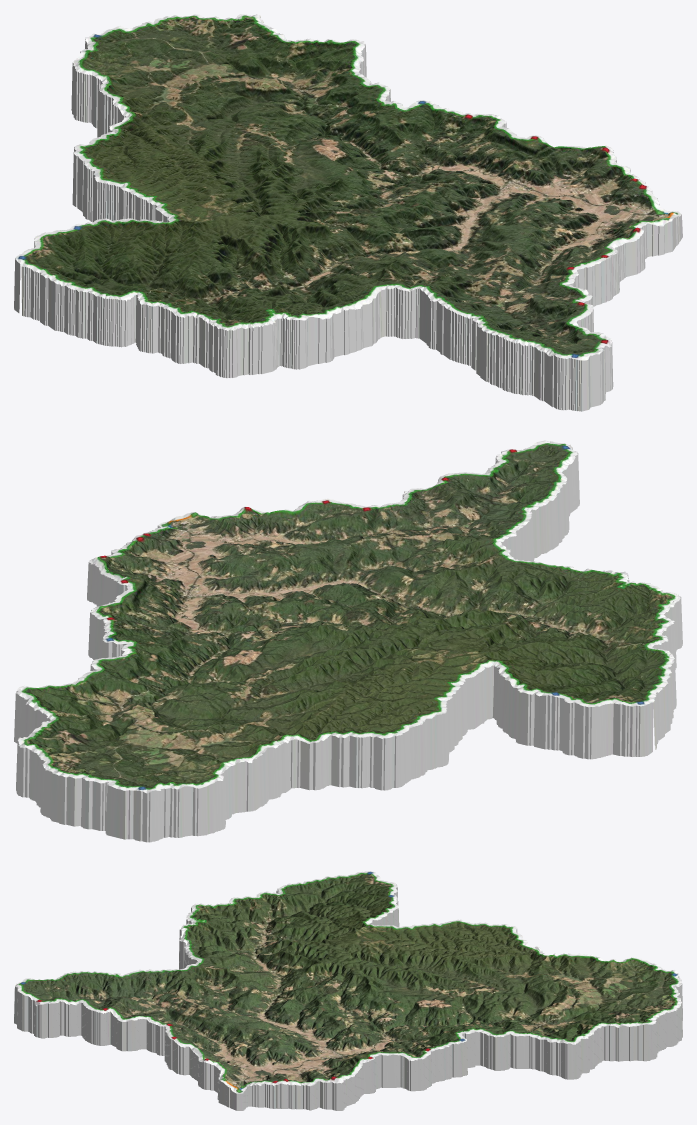
3 renders of one model, top to bottom at view 1: azimuth 30°, elevation 25°; view 2: azimuth 150°, elevation 25°; view 3: azimuth 270°, elevation 25°, orthographic. The views are drawn at different scales.
Size of the model in its own units: 1 by 0.0887 by 1.39.
Materials: 1 (1 with a texture image).
